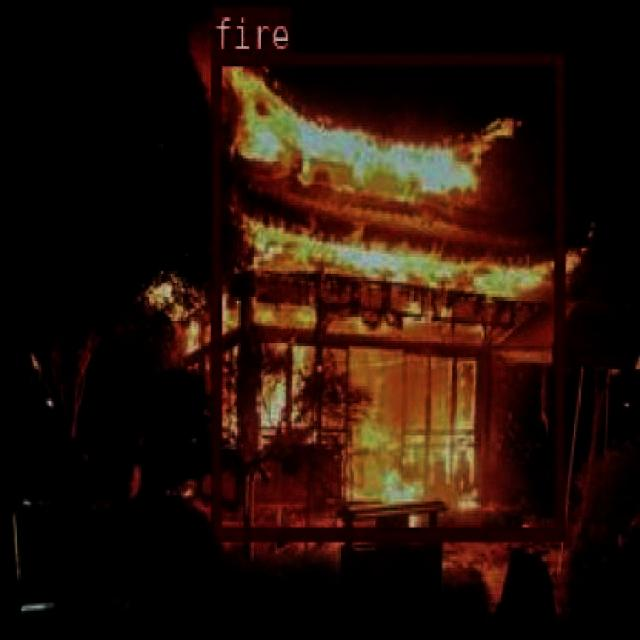fire: (209, 48, 562, 540)
